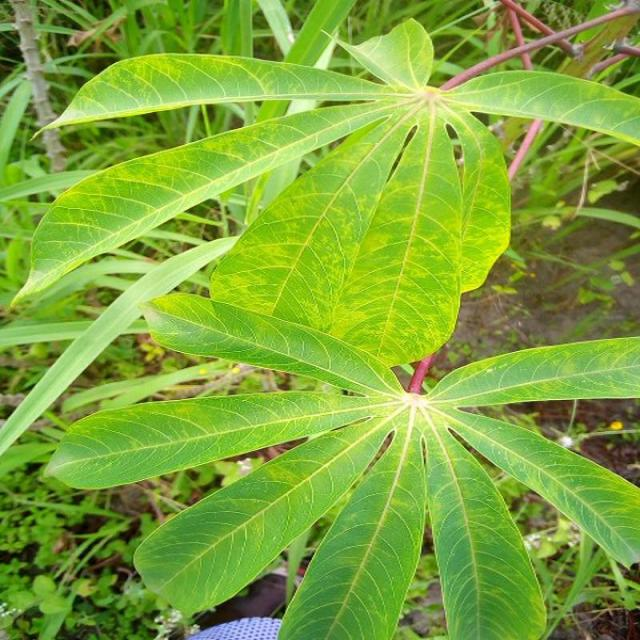cassava leaf: (14, 17, 638, 637)
